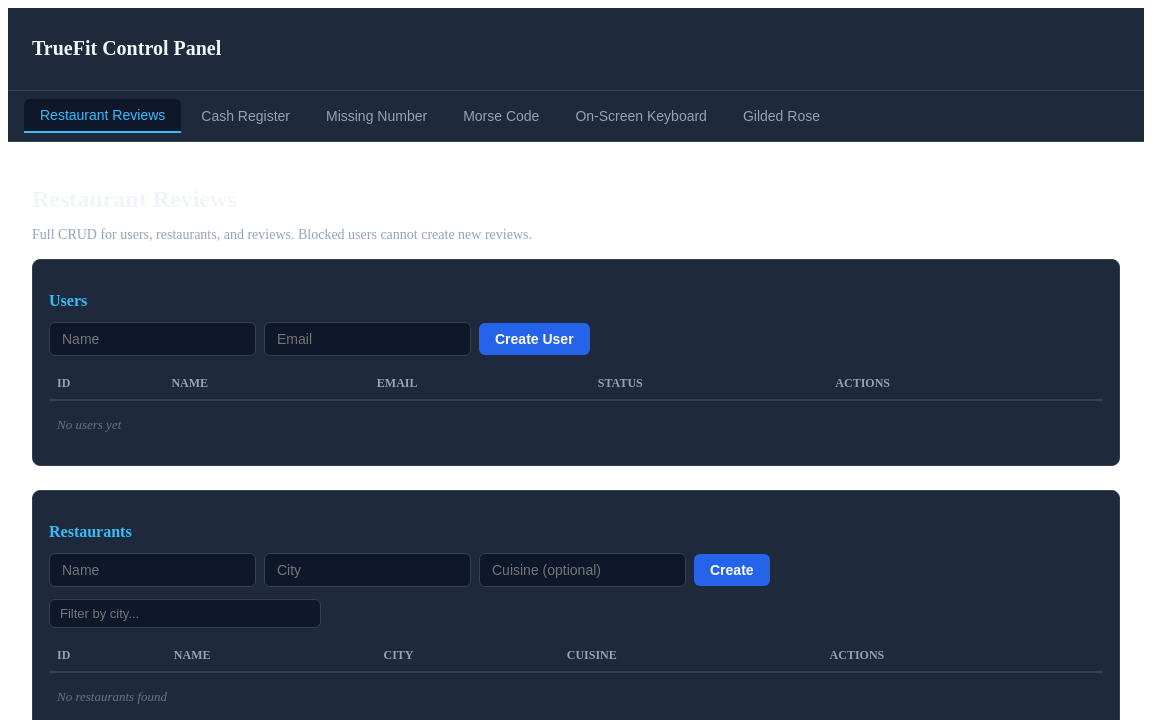
MorseCodePanel mode switching › pre-fills encode default text on load
Click the tab "Morse Code": [501, 116] box [447,99,555,133]
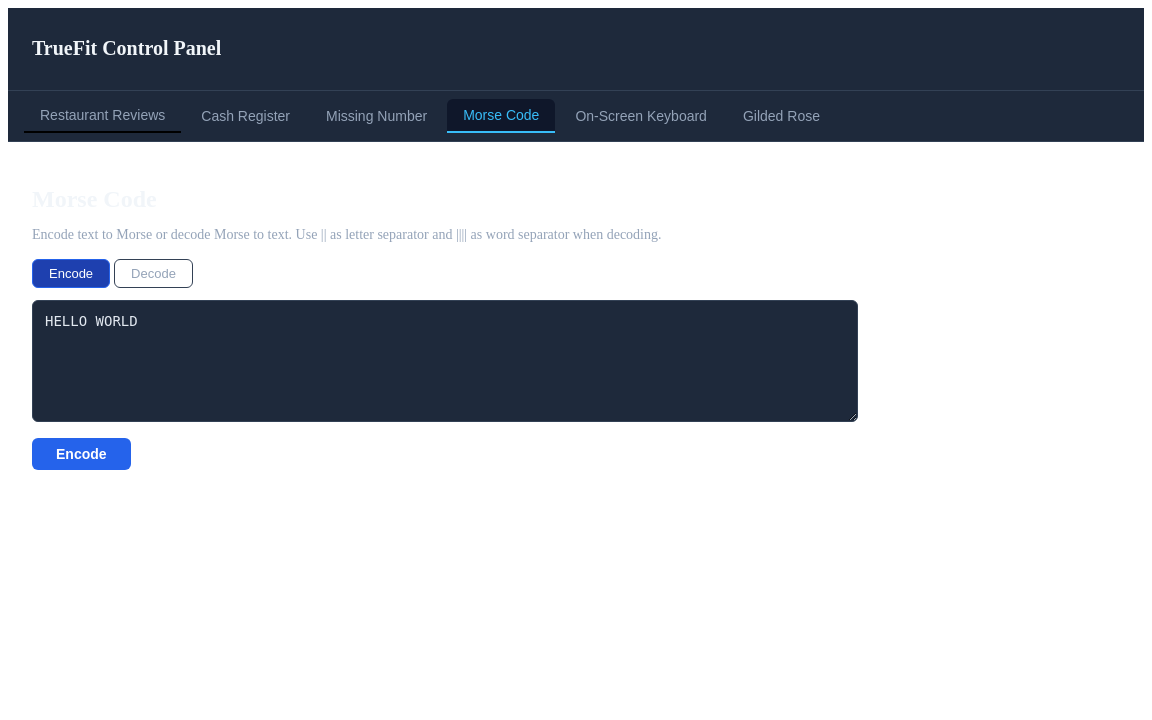
Check: the text box holds "HELLO WORLD", box [32,300,858,422]
